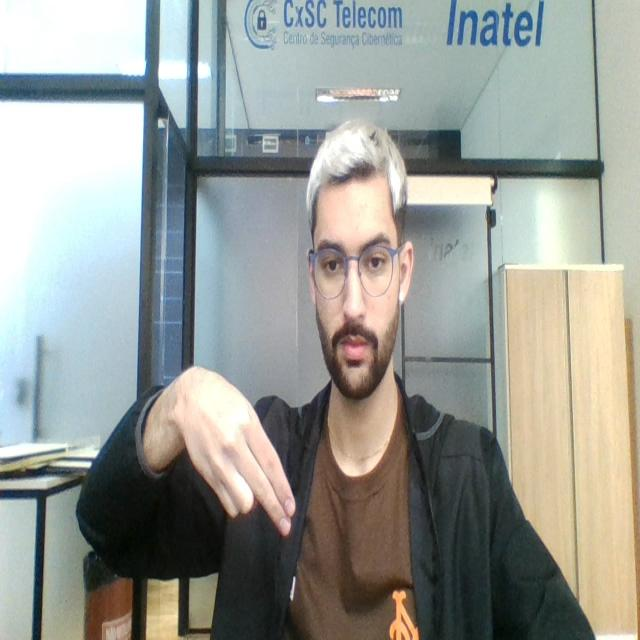N: (172, 358, 302, 548)
